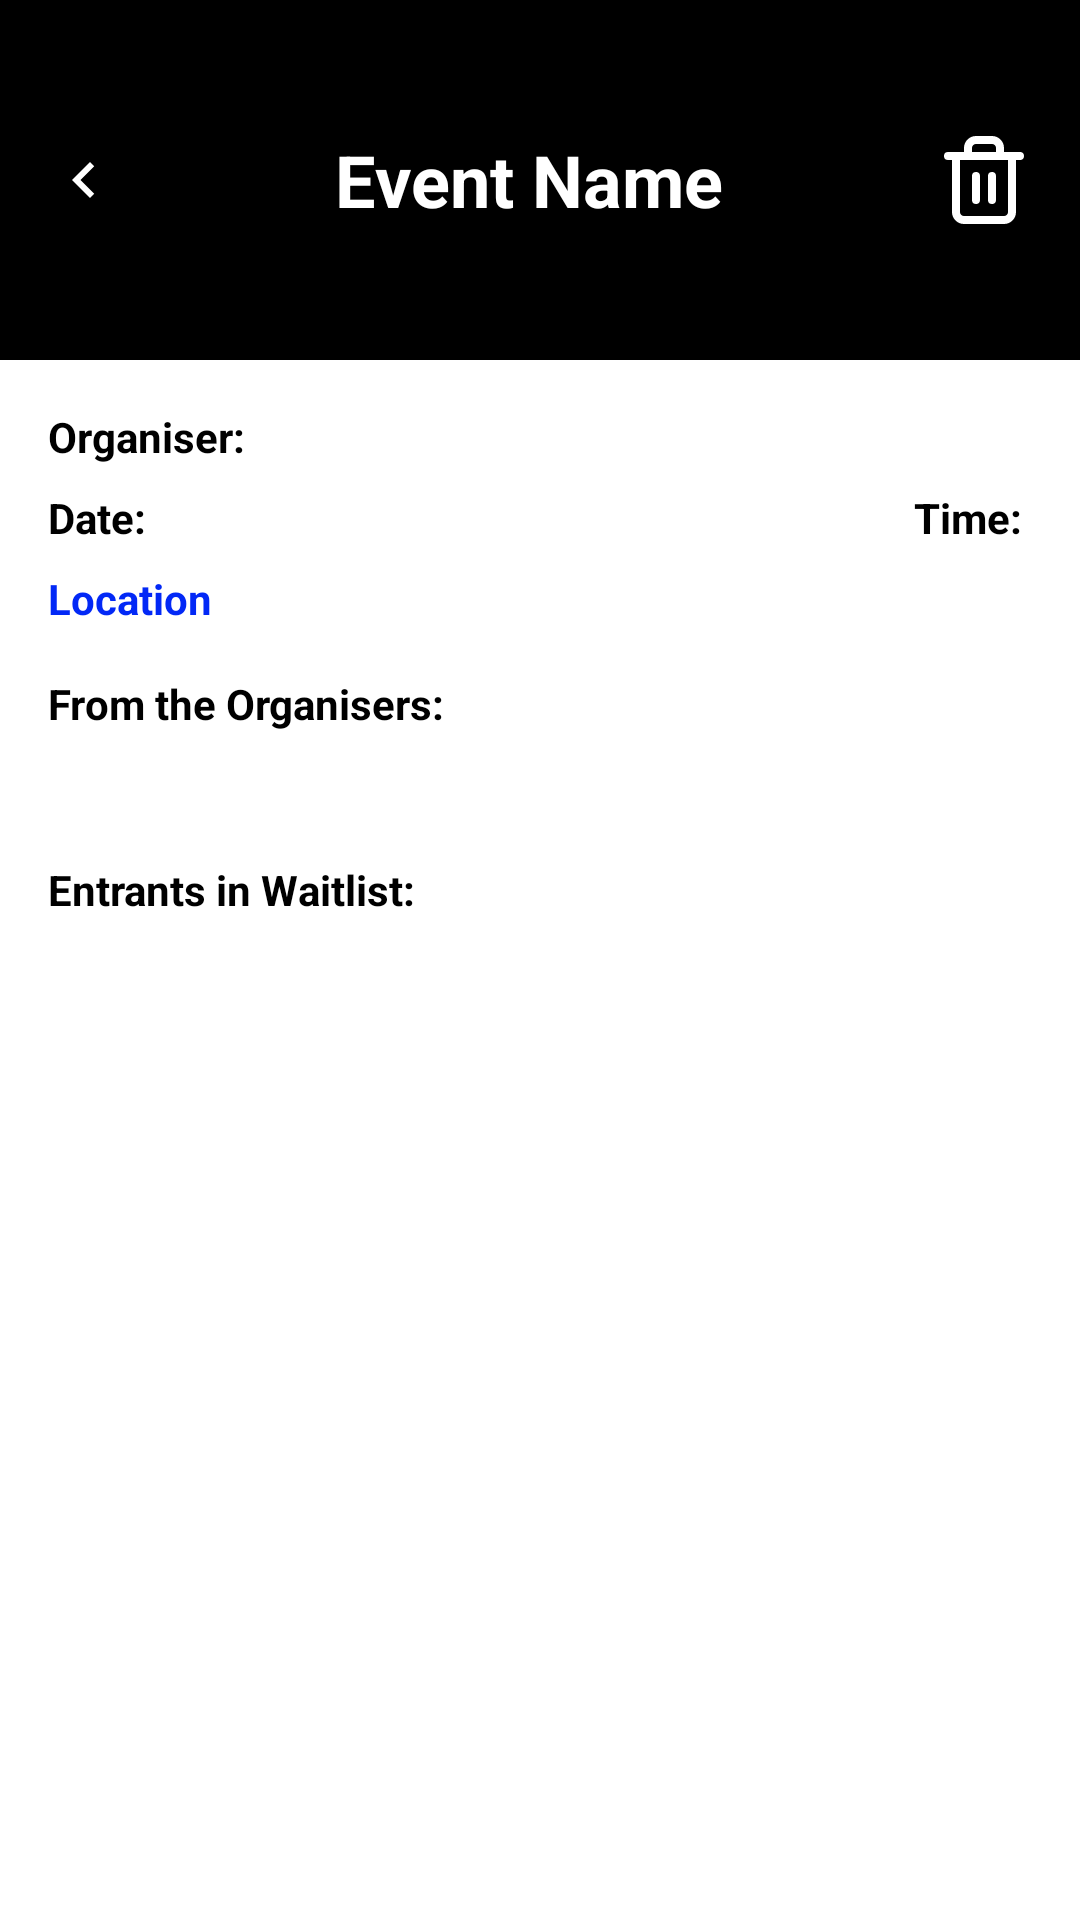

Point at icon controls on the screen. Image size 1080*1920, points as (x,y).
arrow left: (83,180)
delete: (984,180)
